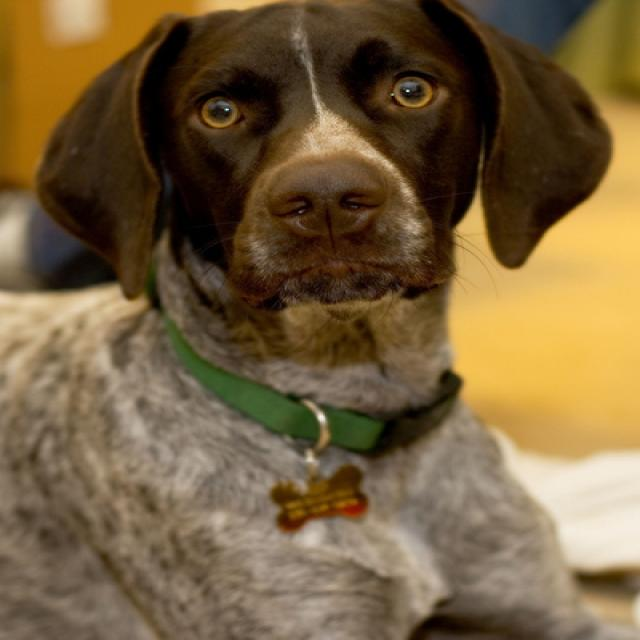dog-german_shorthaired: (2, 1, 627, 637)
